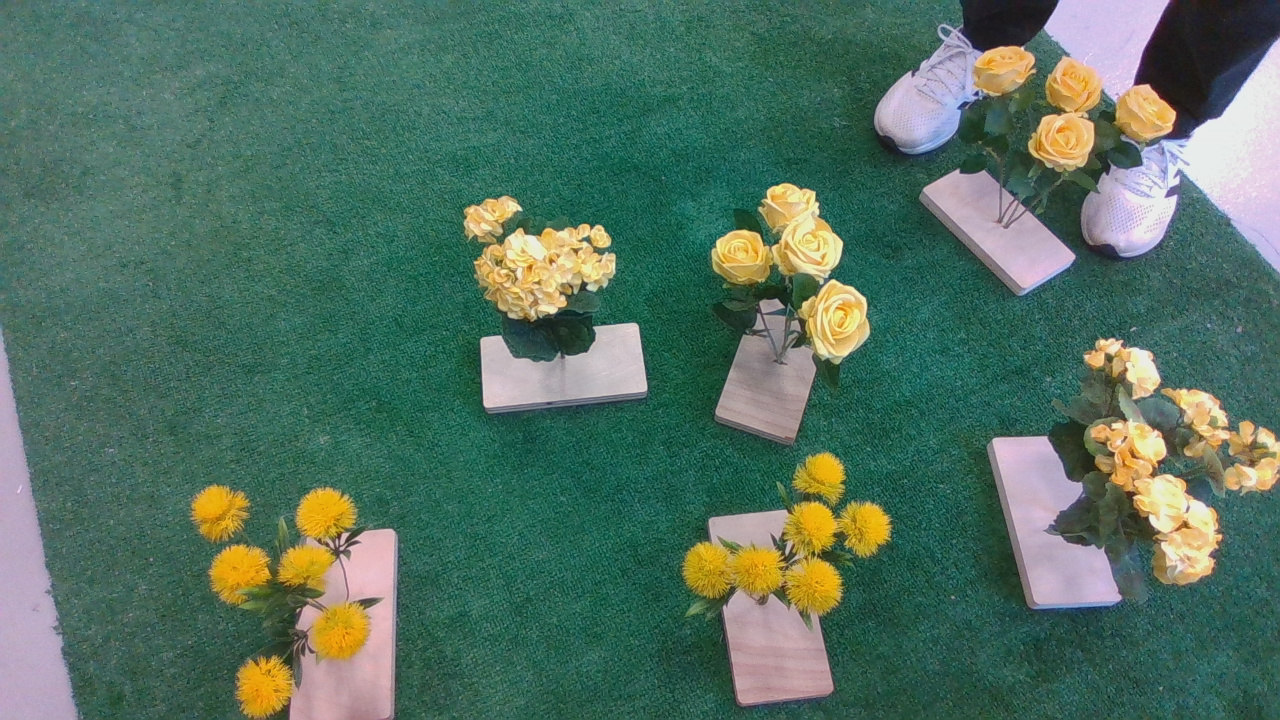dandelion: (184, 472, 393, 720), (673, 452, 905, 629)
geranium: (1030, 338, 1280, 595), (459, 195, 629, 368)
rose: (703, 180, 893, 399), (968, 44, 1186, 207)
